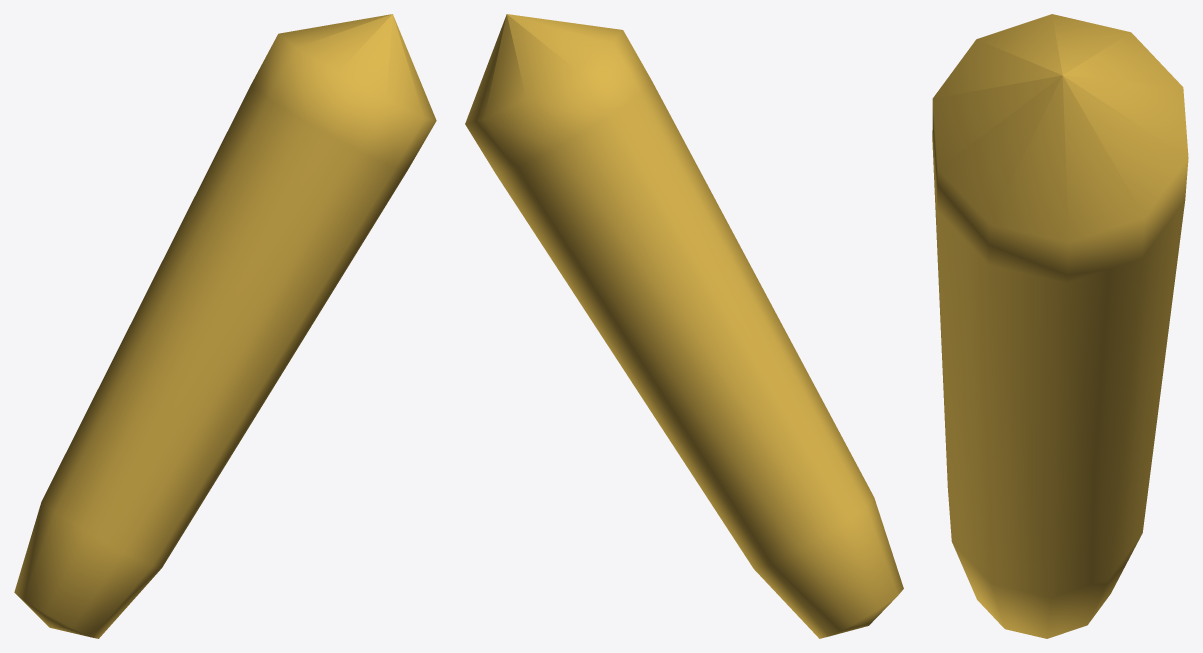
Rendered from forearm_R.obj.
3 views of the same model, side by side, from view 1: azimuth 30°, elevation 25°; view 2: azimuth 150°, elevation 25°; view 3: azimuth 270°, elevation 25° (orthographic). The views are drawn at different scales.
Visible parts, largest first — view 1: forearm_R; view 2: forearm_R; view 3: forearm_R.
Boxes of the visible parts, x1,y1,x2,y2 form: forearm_R: (14,14,436,638); forearm_R: (465,14,903,638); forearm_R: (932,14,1188,638).
Bounding box in the file's own units: 0.1486 × 0.1883 × 0.0558.
